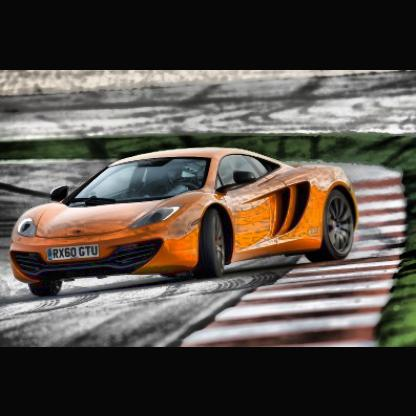McLaren MP4-12C Coupe 2012: (11, 147, 360, 300)
